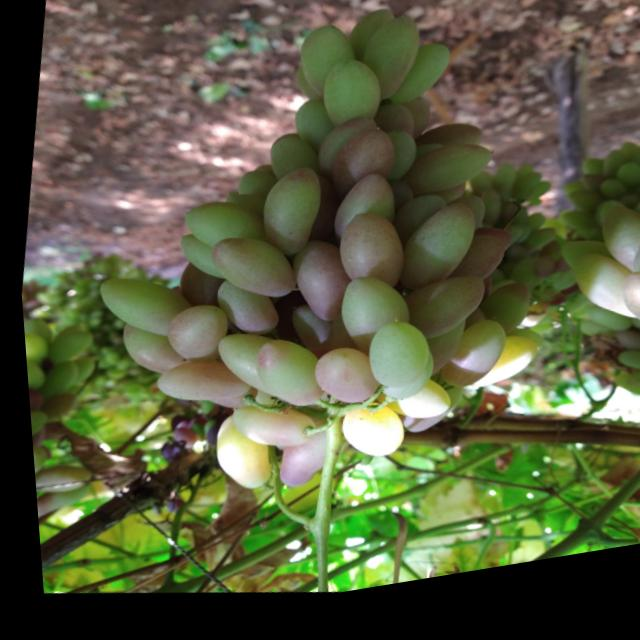grapes: (388, 205, 479, 312), (85, 267, 194, 353), (198, 232, 296, 319), (326, 277, 413, 373), (390, 279, 486, 365), (250, 169, 329, 272), (277, 239, 355, 339), (426, 321, 508, 414), (351, 19, 424, 121), (243, 337, 326, 425), (326, 217, 404, 307), (200, 412, 275, 505), (403, 148, 496, 221), (559, 263, 639, 346), (288, 27, 363, 115), (355, 322, 431, 408), (145, 356, 246, 420), (219, 401, 314, 468), (313, 60, 386, 144), (457, 340, 539, 414), (302, 349, 381, 422), (326, 135, 399, 212), (325, 175, 398, 251), (326, 408, 404, 478), (175, 199, 259, 263), (206, 279, 280, 351), (157, 302, 228, 374), (309, 121, 380, 193), (109, 319, 184, 386), (365, 383, 448, 443), (204, 333, 270, 408), (386, 51, 453, 124), (388, 390, 460, 455), (267, 426, 325, 502), (369, 353, 434, 420), (588, 217, 640, 300), (468, 291, 532, 356), (359, 136, 423, 200), (383, 200, 445, 261), (170, 231, 229, 294), (411, 129, 485, 179), (443, 241, 502, 303), (278, 309, 330, 375), (173, 235, 233, 292), (262, 138, 321, 191), (28, 475, 85, 523), (549, 252, 611, 296), (36, 324, 92, 371), (27, 458, 86, 502), (344, 16, 394, 67), (368, 109, 417, 159), (172, 264, 218, 317), (289, 105, 333, 155), (456, 200, 502, 247), (610, 288, 640, 358), (29, 358, 76, 402), (577, 318, 629, 357), (390, 105, 432, 153), (551, 223, 600, 263), (199, 386, 253, 421), (503, 269, 550, 308), (33, 389, 74, 428), (603, 387, 640, 426), (234, 173, 275, 207), (218, 195, 260, 227), (471, 239, 510, 273), (321, 322, 354, 361), (542, 274, 574, 312), (508, 186, 541, 221), (586, 217, 621, 250), (516, 243, 554, 273), (511, 317, 545, 350), (430, 191, 466, 222), (560, 203, 596, 234), (379, 190, 411, 224), (19, 328, 49, 364), (487, 174, 516, 211), (596, 167, 627, 201), (608, 366, 640, 397), (571, 335, 610, 360), (591, 194, 624, 223), (625, 244, 640, 306), (611, 178, 640, 210), (606, 347, 639, 374), (497, 219, 526, 248), (64, 356, 92, 386), (464, 183, 491, 214), (21, 356, 43, 393), (24, 406, 44, 444), (53, 320, 85, 343), (164, 430, 191, 457), (613, 389, 640, 415), (523, 195, 549, 221), (576, 173, 603, 197), (26, 440, 43, 478), (497, 239, 520, 265), (573, 190, 598, 213), (534, 257, 557, 281), (500, 258, 526, 279), (520, 228, 543, 250), (23, 386, 41, 414), (151, 445, 171, 470), (624, 212, 640, 242), (250, 168, 274, 187), (613, 160, 634, 181), (156, 501, 177, 521), (197, 429, 214, 453), (161, 417, 181, 437), (513, 180, 532, 200), (195, 423, 214, 443), (627, 162, 640, 189), (554, 196, 574, 213), (516, 216, 541, 228), (184, 426, 200, 444), (623, 336, 640, 352), (184, 419, 201, 433), (633, 362, 640, 395), (169, 424, 185, 436), (632, 356, 640, 373), (637, 228, 640, 253), (640, 202, 640, 234), (640, 175, 640, 207)
